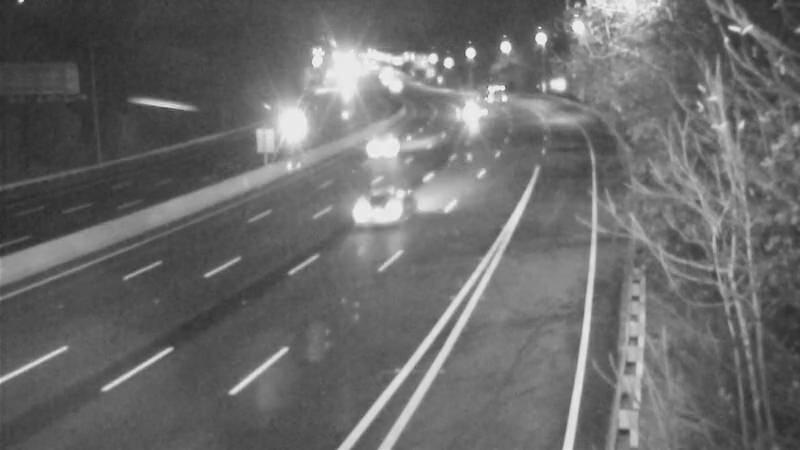vehicle: (335, 170, 415, 250), (473, 69, 523, 119), (440, 84, 490, 134), (361, 123, 411, 173), (281, 91, 331, 141)
